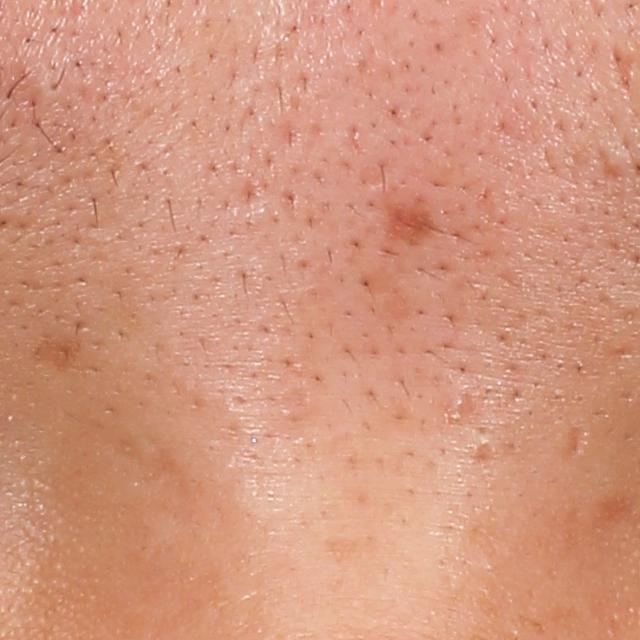atrophic_scar: (564, 423, 589, 459)
melasma: (382, 199, 443, 251), (34, 335, 83, 376)
